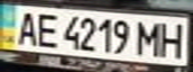1: (93, 16, 115, 53)
2: (78, 15, 100, 53)
4: (60, 12, 81, 51)
9: (112, 17, 136, 55)
A: (12, 8, 42, 46)
E: (33, 10, 60, 48)
H: (157, 19, 190, 58)
M: (133, 18, 166, 56)
